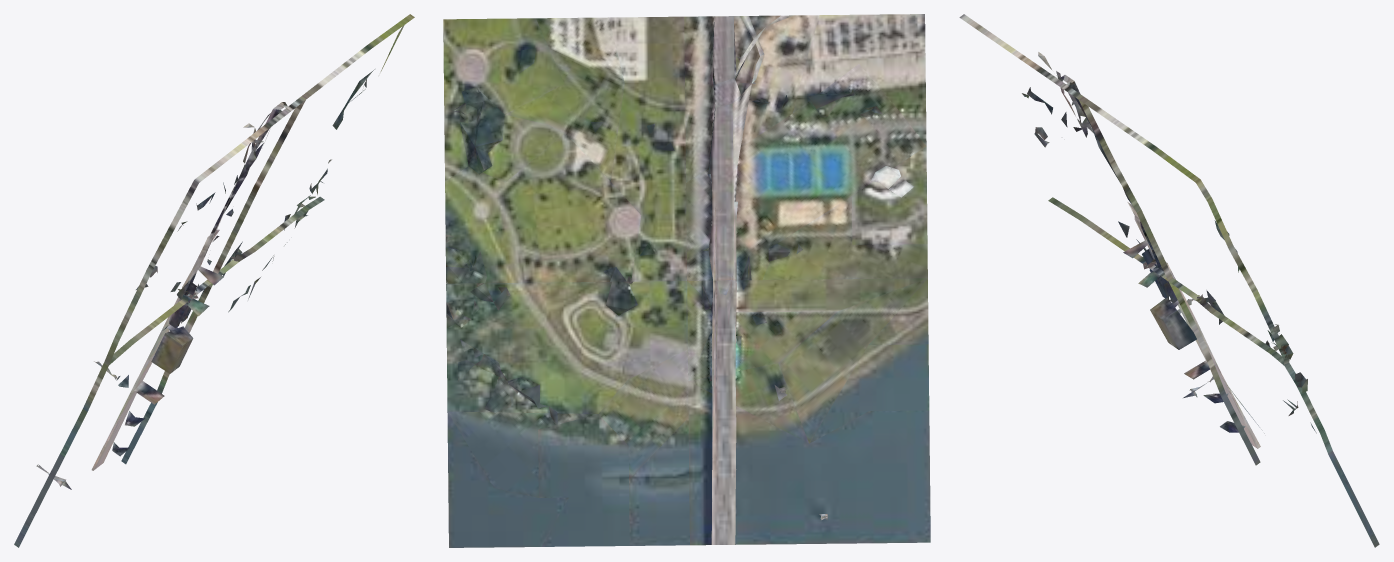
3 renders of one model, left to right at view 1: azimuth 30°, elevation 25°; view 2: azimuth 150°, elevation 25°; view 3: azimuth 270°, elevation 25°, orthographic. The views are drawn at different scales.
Size of the model in its own units: 610 by 563 by 512.
Materials: 1 (1 with a texture image).
